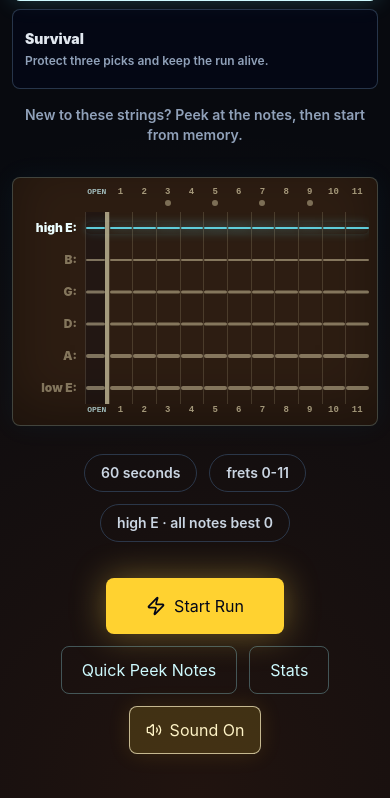
Test: FretboardDropGame › opens Stats from the start screen and returns back
(page scrolled)
Click the button "Stats": (289, 670) x1=249 y1=646 x2=329 y2=694
(page scrolled)
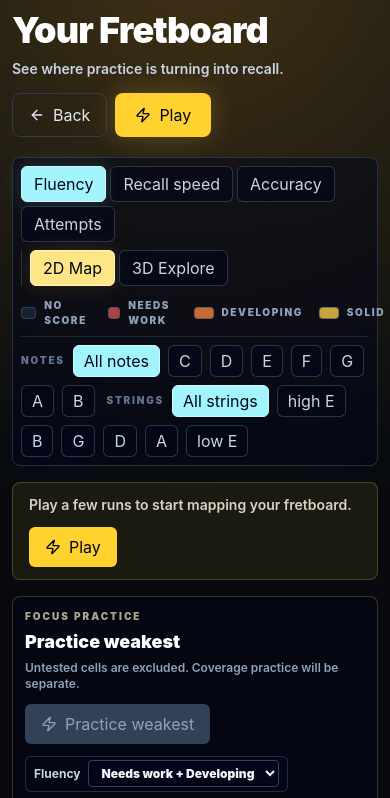
Check: the heading "Your Fretboard" is shown, box x1=12 y1=10 x2=284 y2=50
Check: the text "Play a few runs to start mapping your fretboard." is shown, box x1=29 y1=495 x2=352 y2=515
Click the button "Back": (60, 115) x1=12 y1=93 x2=107 y2=137
(page scrolled)
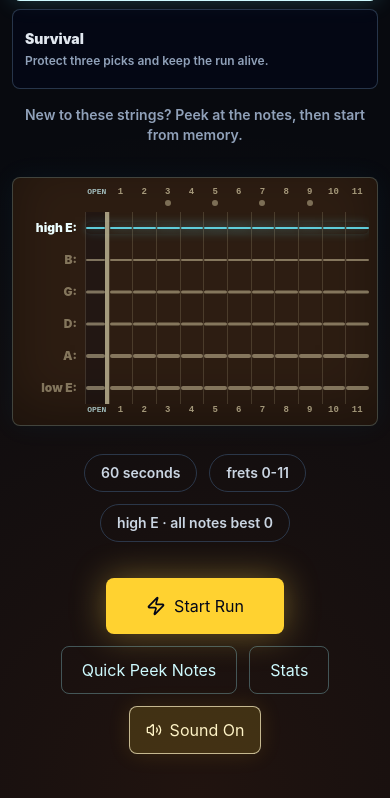
Check: the button "Start Run" is shown, box x1=106 y1=578 x2=284 y2=634
